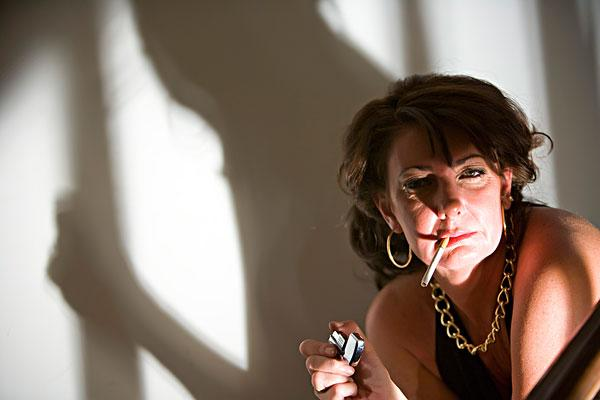smoke: (420, 236, 451, 288)
